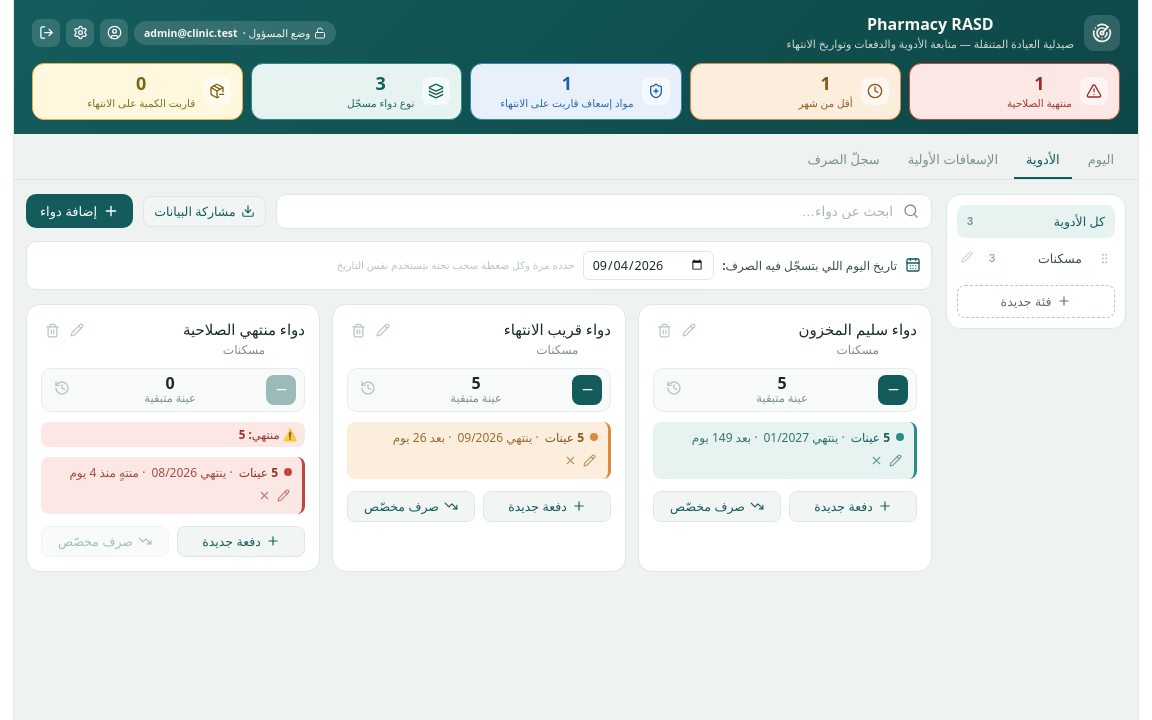
Test: KPI cards — clickable dashboard shortcuts › 'مواد إسعاف قاربت على الانتهاء' opens First Aid filtered to items at/below their threshold
Click the button "1 مواد إسعاف قاربت على الانتهاء". click: (576,91)
box: [470, 63, 682, 120]
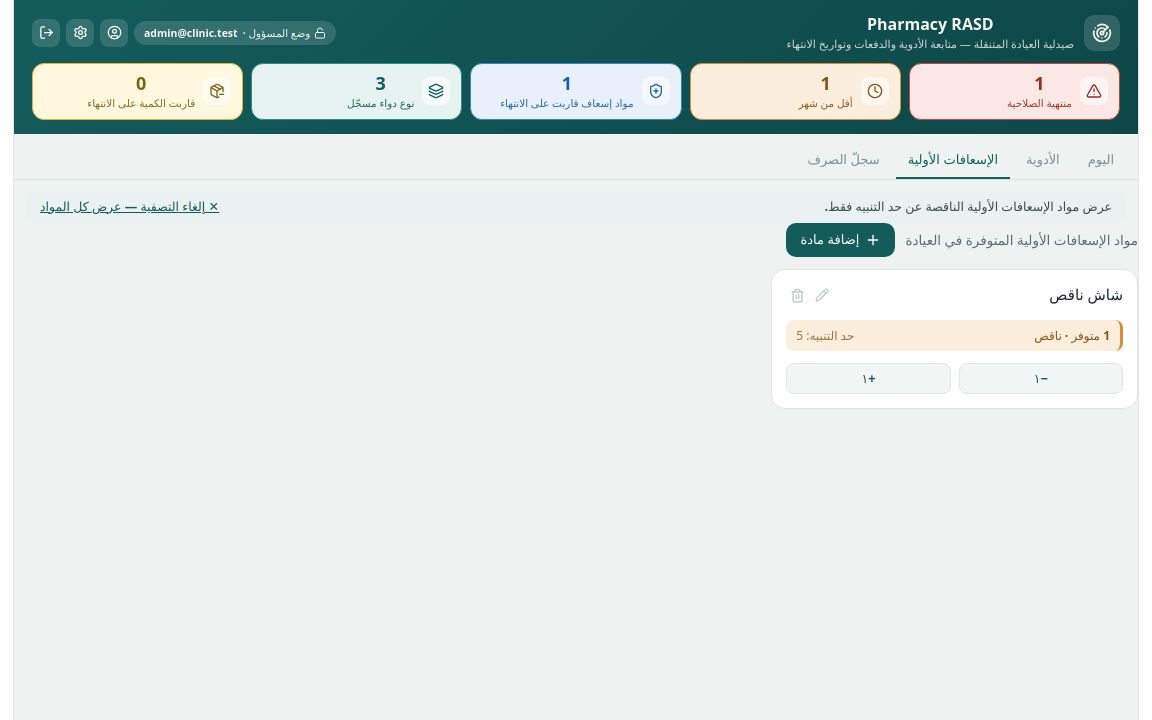
Result: the text "شاش ناقص" is shown at [1049, 284, 1123, 304]
